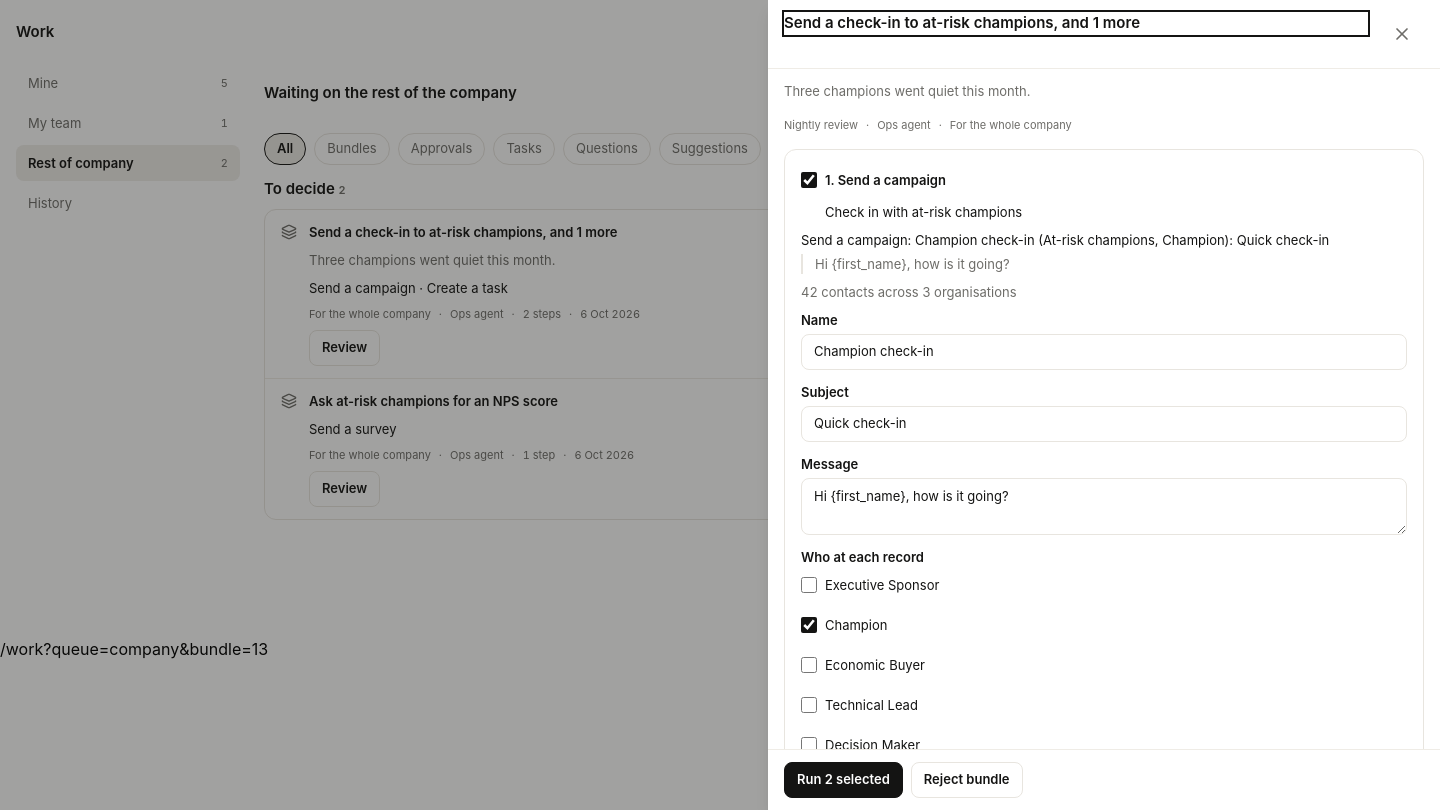
Test case: Bundle panel (spec §8.2; frontend Decisions 5 to 11) › drops the audience sentence from a send step once it has run
Expected: the text "42 contacts across 3 organisations" is shown, [801,284,1017,300]
Click the button "Run 2 selected" at [843, 780], box [784,762,903,798]
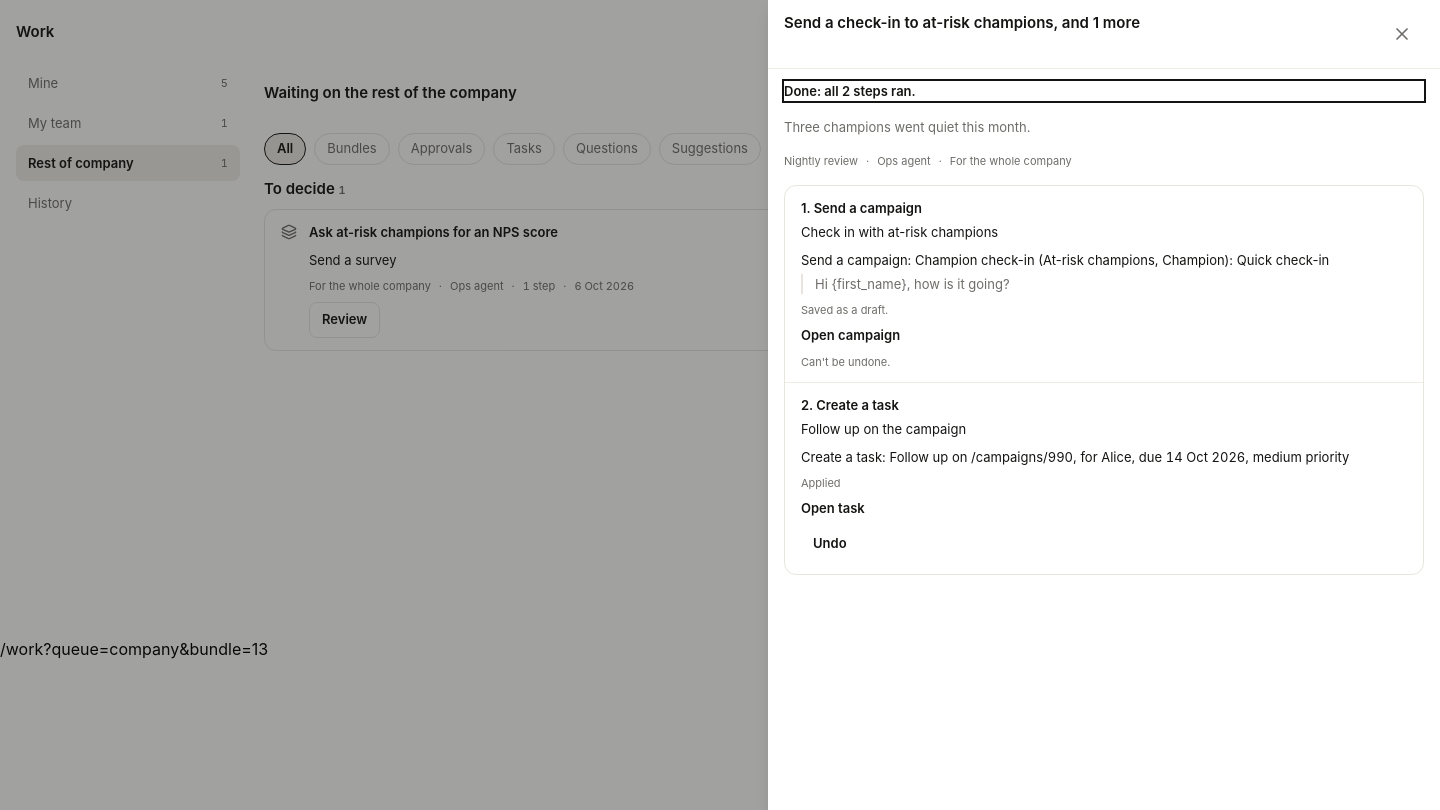
Result: the list item with test id "step-51" shows "Open campaign" at [801,326,900,346]
Result: the text with test id "step-51" no longer shows "42 contacts"
